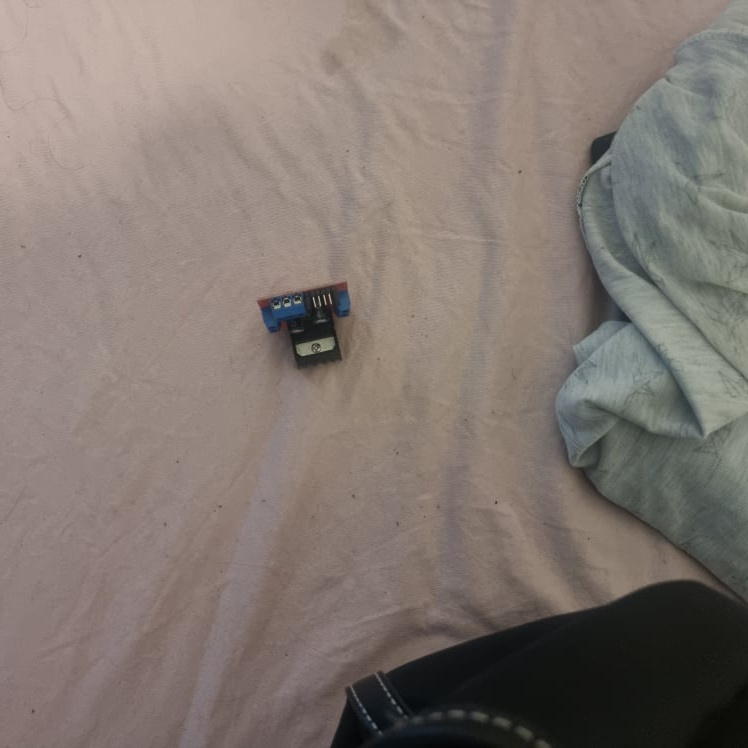MOTOR: (256, 277, 358, 370)
